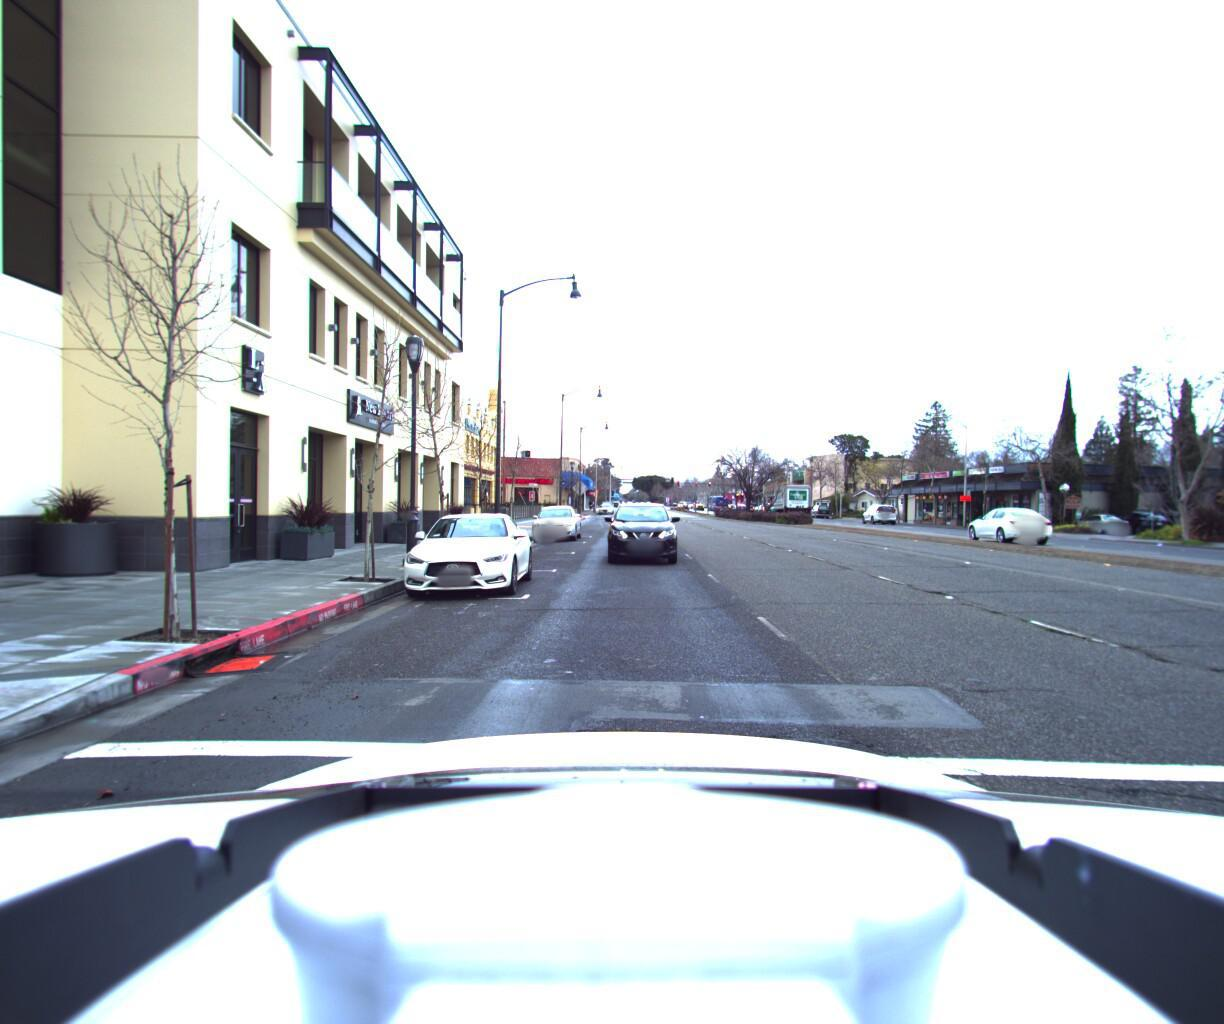car: (391, 513, 537, 607), (605, 504, 678, 571), (955, 510, 1048, 548), (1070, 516, 1136, 546), (531, 507, 582, 545), (860, 508, 894, 526)
truck: (768, 486, 812, 515)
